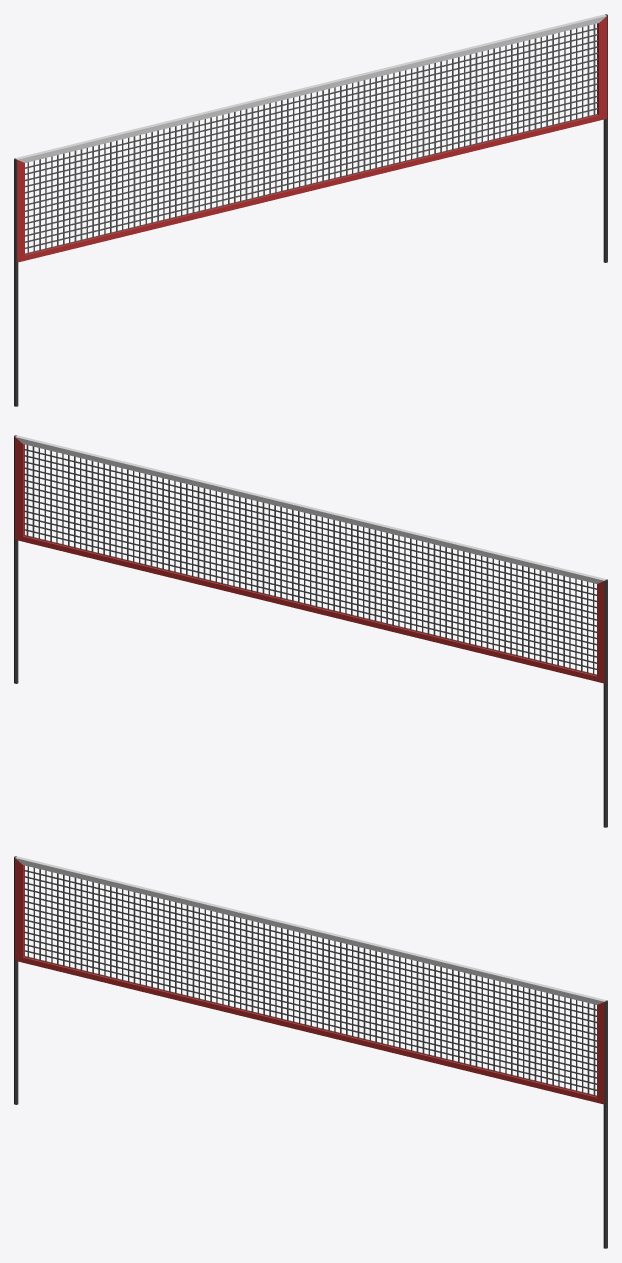
The model's file is Badminton Net.fbx.
3 views of the same model, one above another, from view 1: azimuth 30°, elevation 25°; view 2: azimuth 150°, elevation 25°; view 3: azimuth 330°, elevation 25° (orthographic).
Parts seen in each view (by area): view 1: Net, Badminton Net; view 2: Net, Badminton Net; view 3: Net, Badminton Net.
Part boxes in pixels (bbox=[...]): Net: bbox=[15, 14, 606, 262]; Badminton Net: bbox=[14, 14, 607, 406]; Net: bbox=[15, 435, 606, 683]; Badminton Net: bbox=[14, 435, 607, 827]; Net: bbox=[15, 856, 606, 1104]; Badminton Net: bbox=[14, 856, 607, 1248].
Bounding box in the file's own units: 3020 × 1200 × 20.
